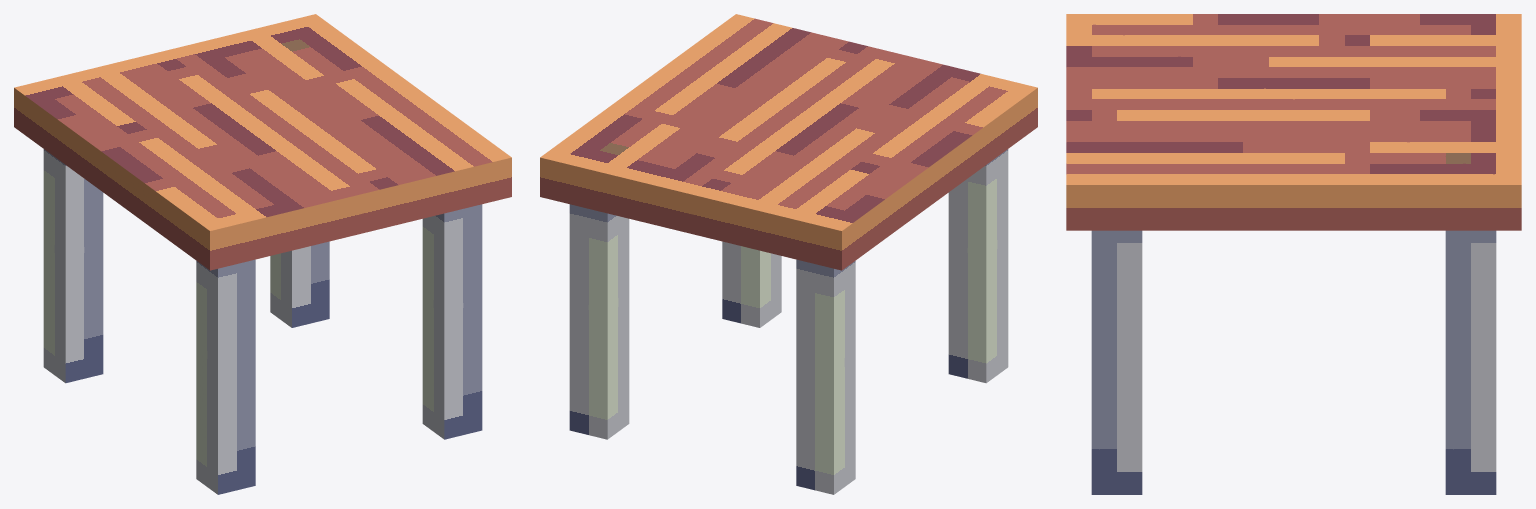
File: table_color (1).fbx
3 views of the same model, side by side, from view 1: azimuth 30°, elevation 25°; view 2: azimuth 150°, elevation 25°; view 3: azimuth 270°, elevation 25° (orthographic). The views are drawn at different scales.
Visible parts, largest first — view 1: cube_4, cube_3, cube_2, cube_1, cube; view 2: cube_4, cube, cube_1, cube_2, cube_3; view 3: cube_4, cube, cube_3.
Boxes of the visible parts, x1=… form: cube_4: x1=14, y1=14, x2=511, y2=270; cube_3: x1=422, y1=204, x2=482, y2=439; cube_2: x1=196, y1=259, x2=255, y2=494; cube_1: x1=43, y1=149, x2=103, y2=383; cube: x1=270, y1=241, x2=329, y2=327; cube_4: x1=540, y1=14, x2=1037, y2=270; cube: x1=569, y1=204, x2=629, y2=439; cube_1: x1=796, y1=259, x2=855, y2=494; cube_2: x1=948, y1=149, x2=1008, y2=383; cube_3: x1=722, y1=241, x2=781, y2=327; cube_4: x1=1066, y1=14, x2=1521, y2=230; cube: x1=1445, y1=230, x2=1496, y2=494; cube_3: x1=1091, y1=230, x2=1142, y2=494.
Bounding box in the file's own units: 100 × 87.5 × 112.
1 material, 1 textured.
